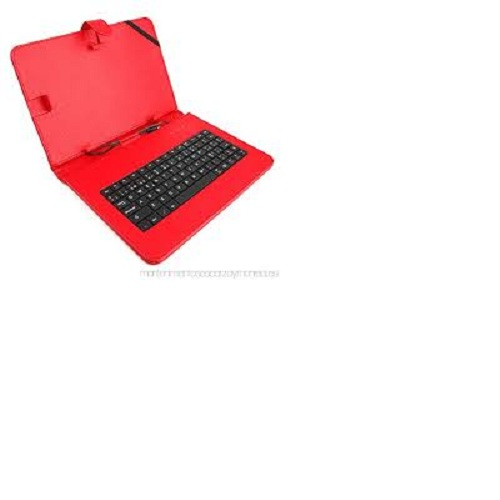Teclado: (61, 108, 277, 271)
